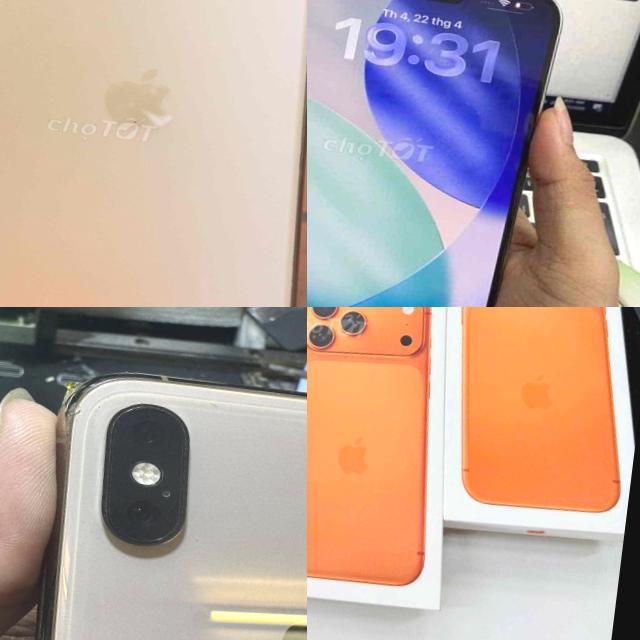scratch: (58, 396, 84, 441), (208, 398, 219, 408), (94, 404, 102, 414), (192, 537, 200, 543)
